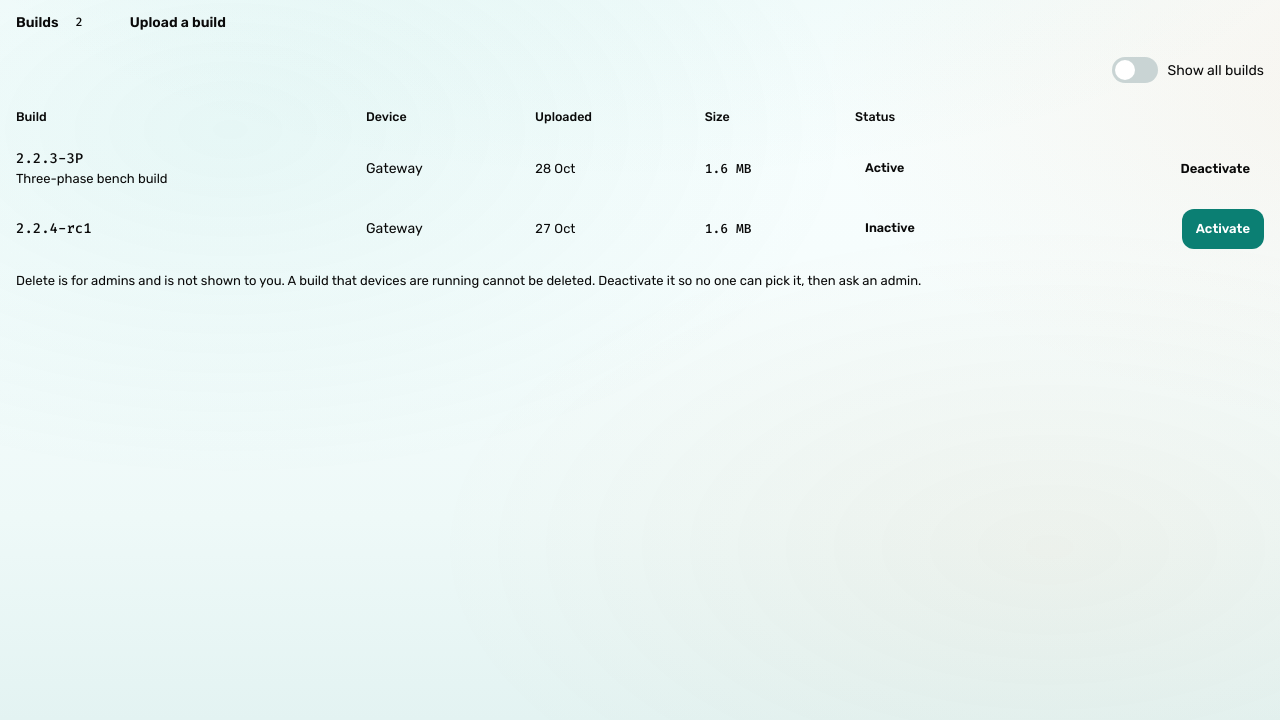
Test: OpsFirmware › T3 a refused change shows a plain error
Click the button with aria-label "Activate 2.2.4-rc1": click(1223, 228) [1182, 208, 1264, 248]
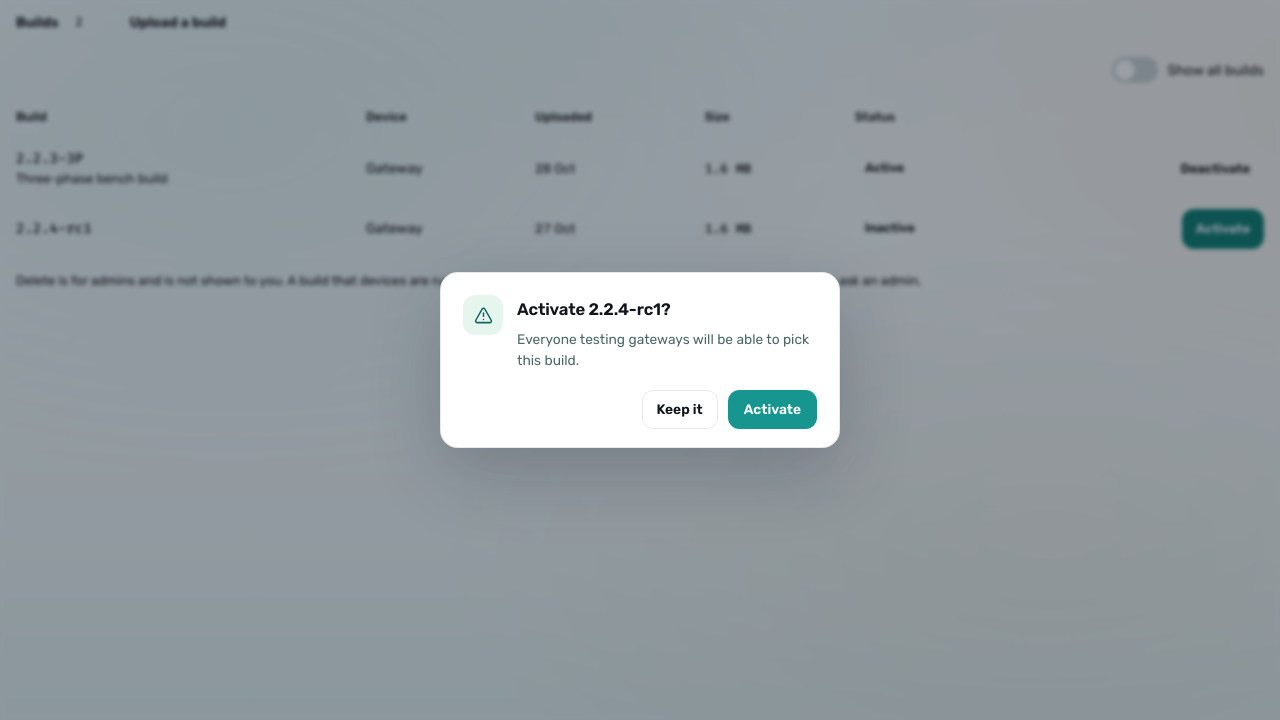
Click the button "Activate": click(772, 410) [728, 390, 817, 429]
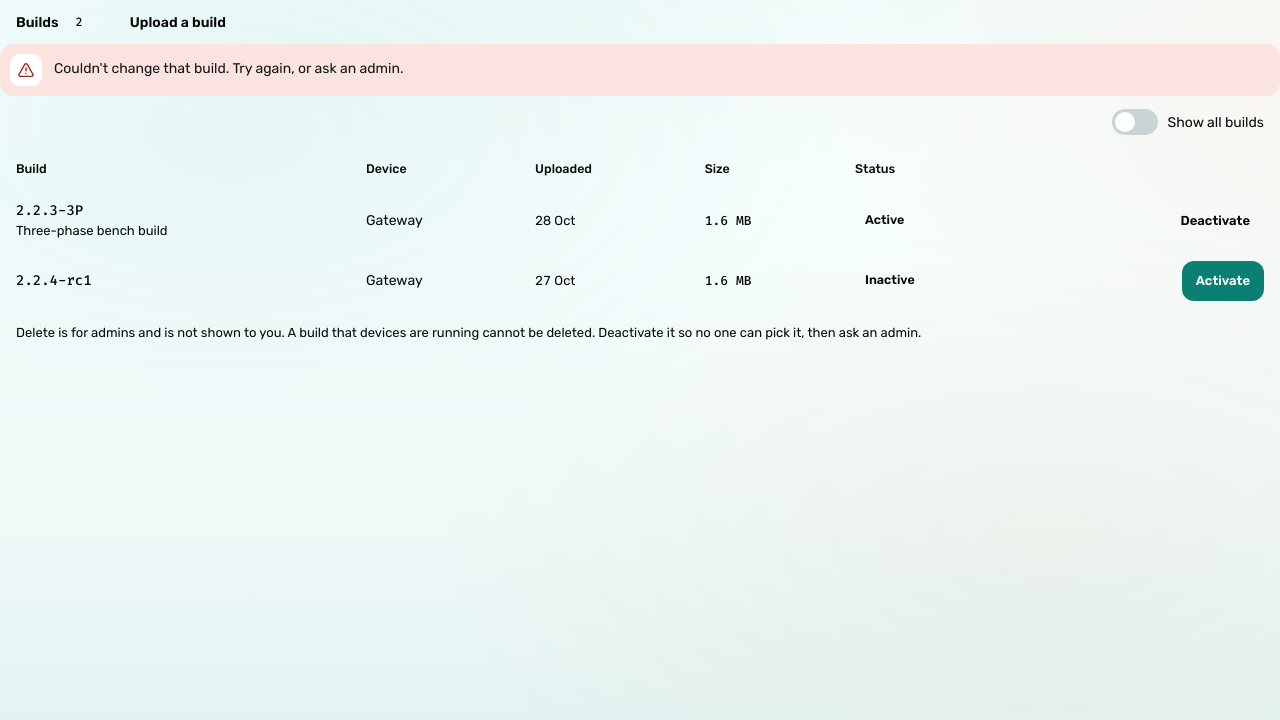
Check: the text "Couldn't change that build. Try again, or ask an admin." is shown, box [54, 60, 404, 77]
